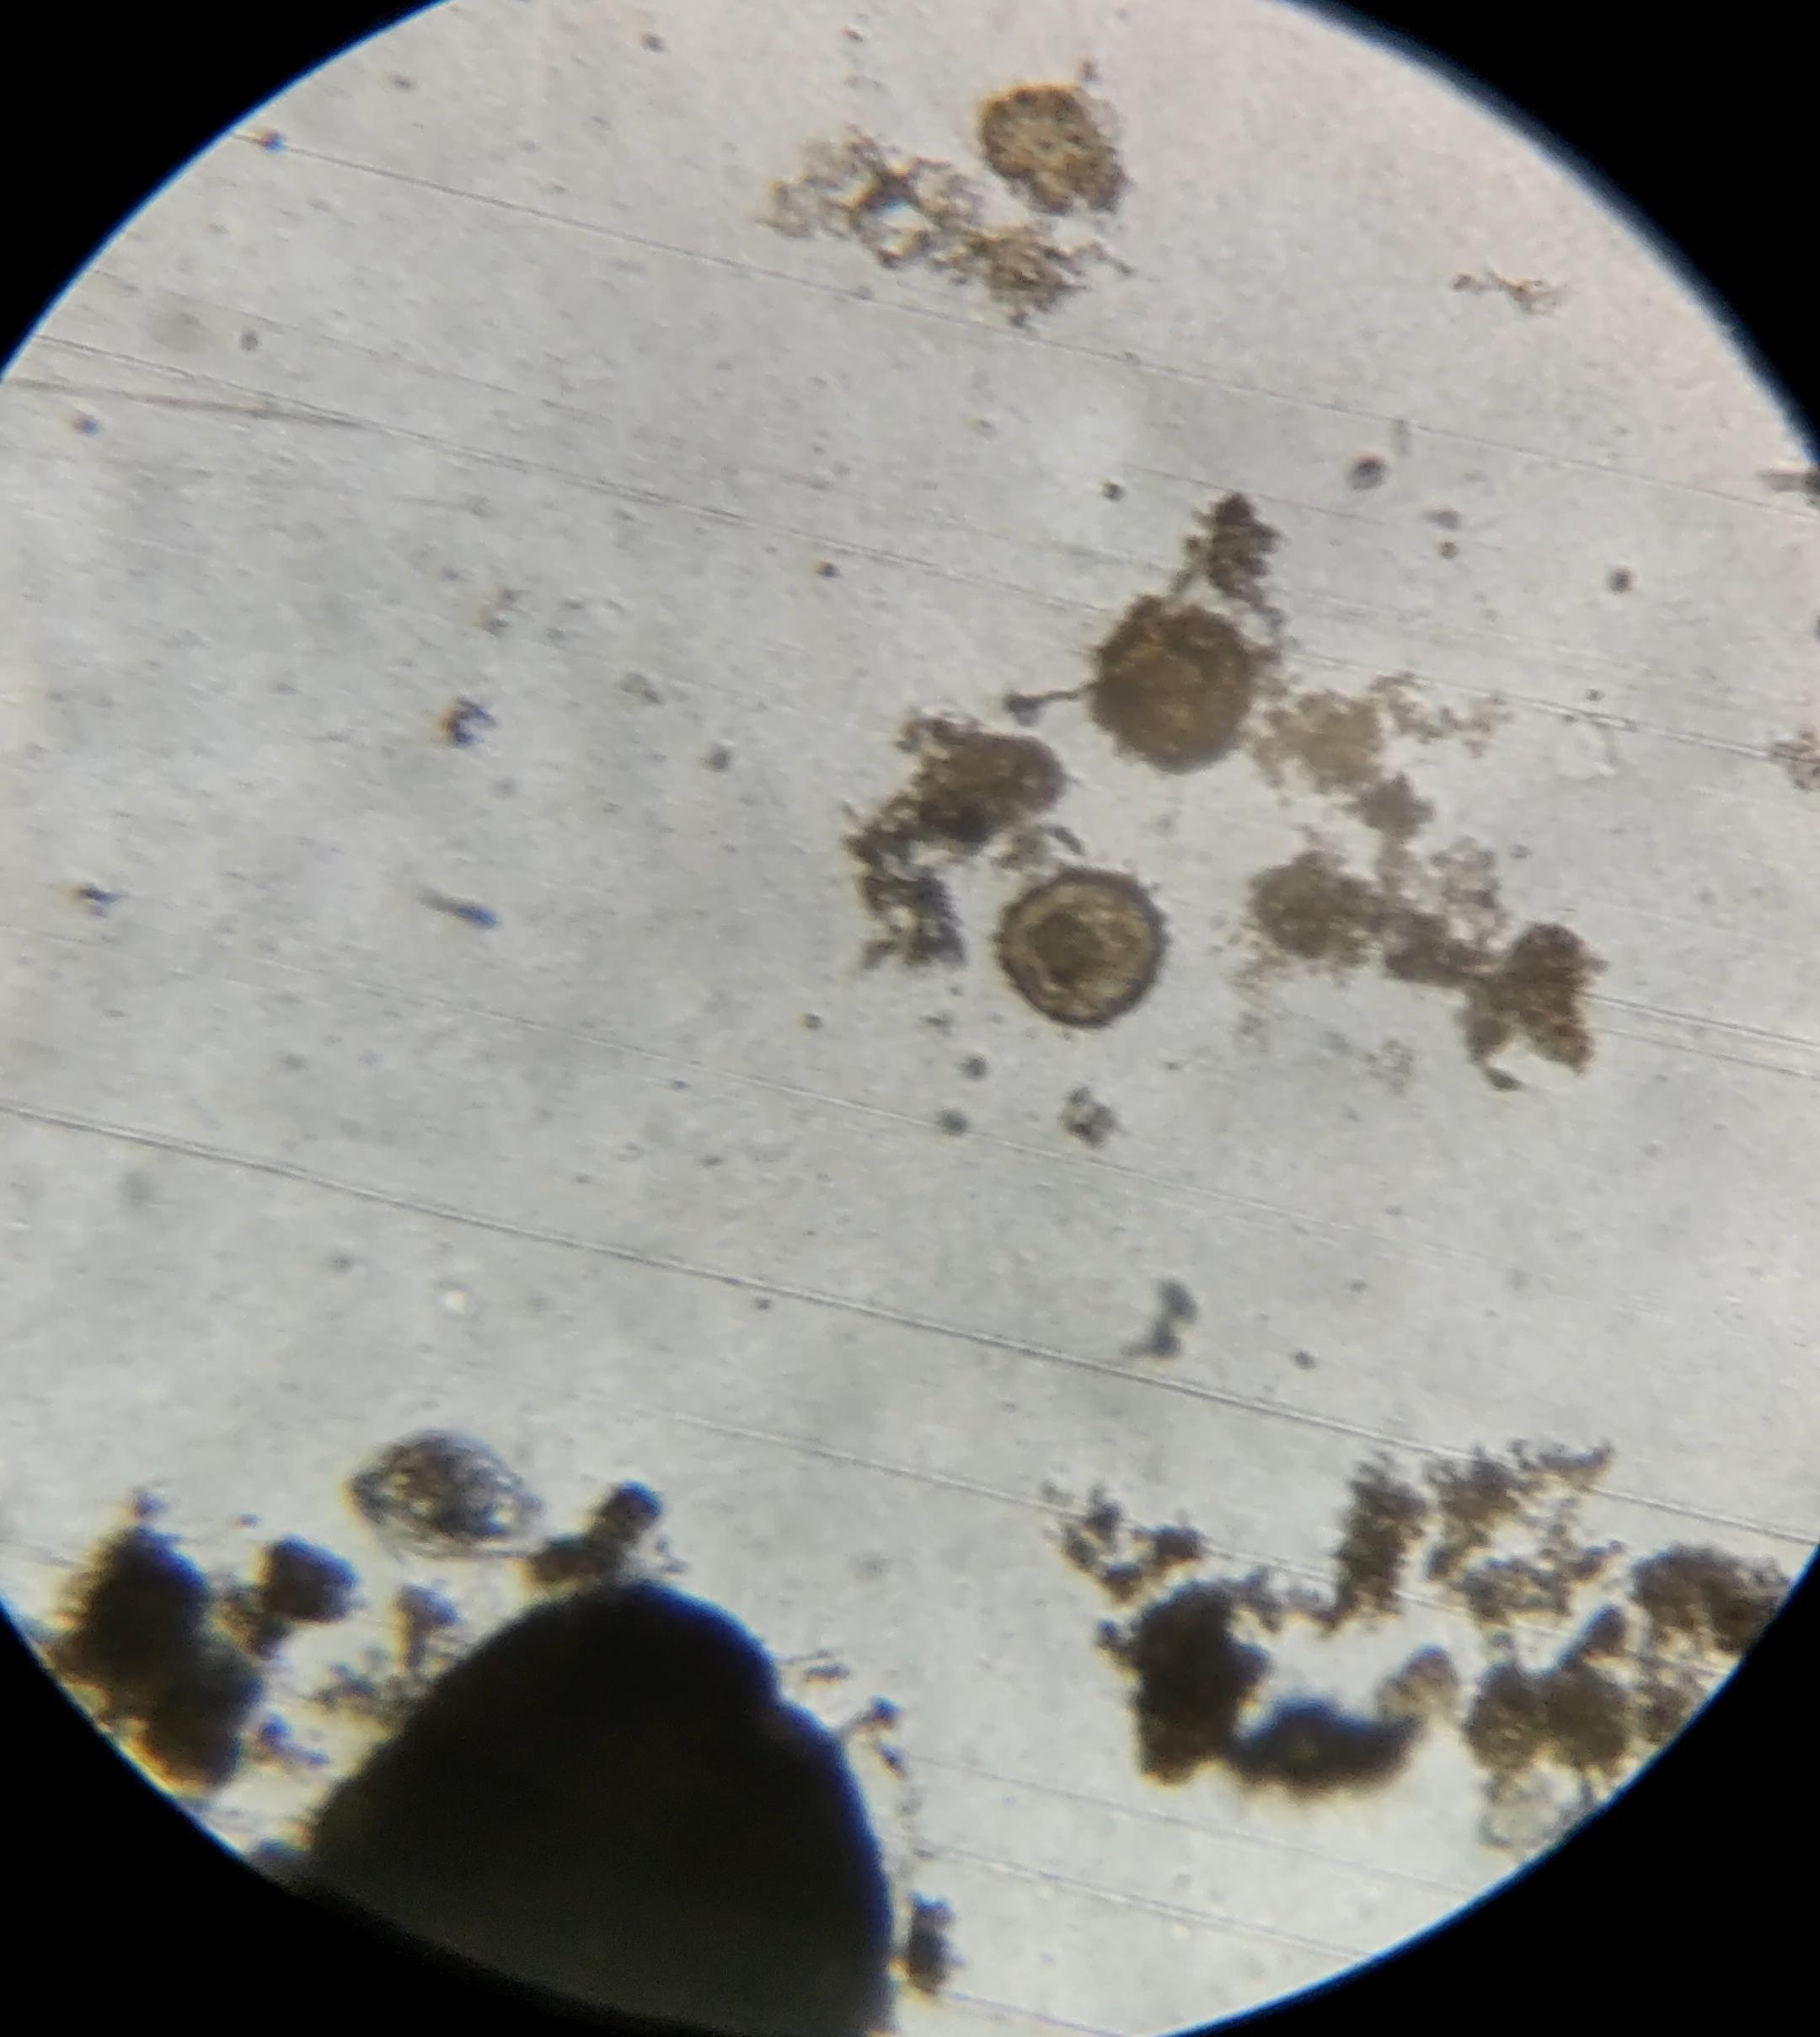Arcella: (1003, 874, 1159, 1026), (1107, 615, 1242, 766)
Mo: (351, 1429, 541, 1566)
